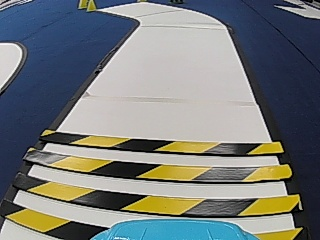bump: (43, 132, 241, 221)
